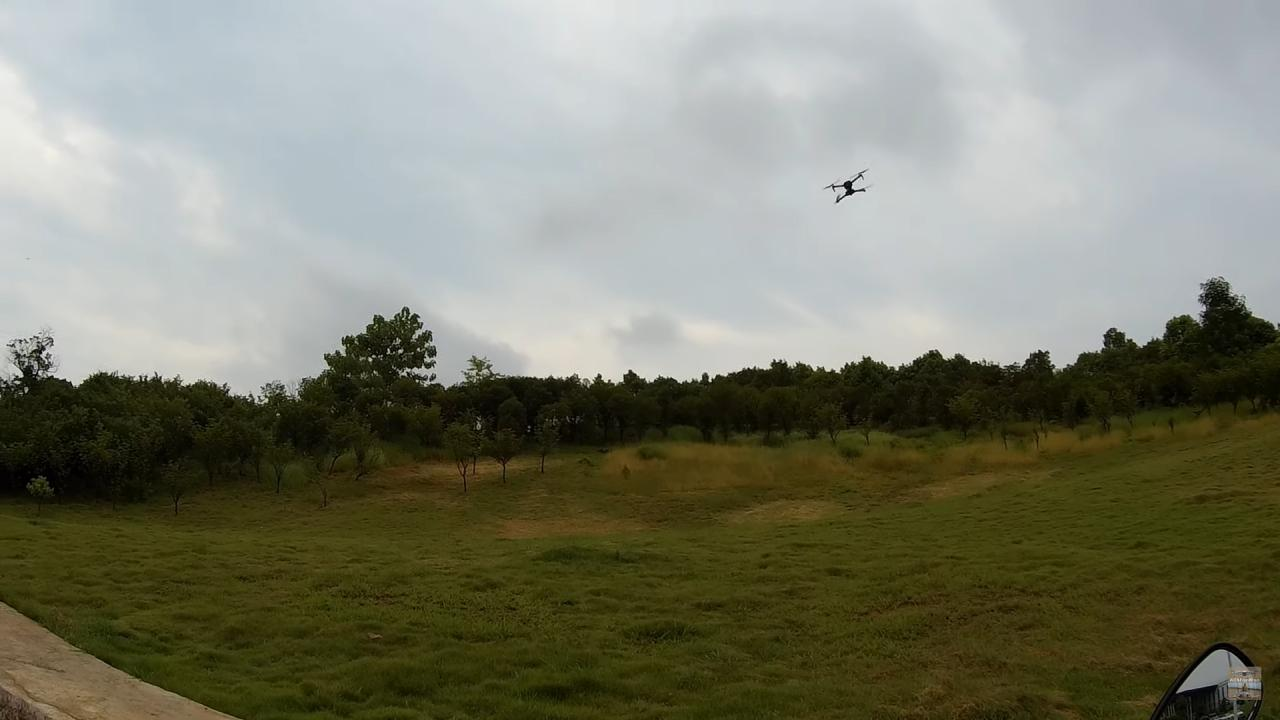Drone: (814, 159, 876, 216)
